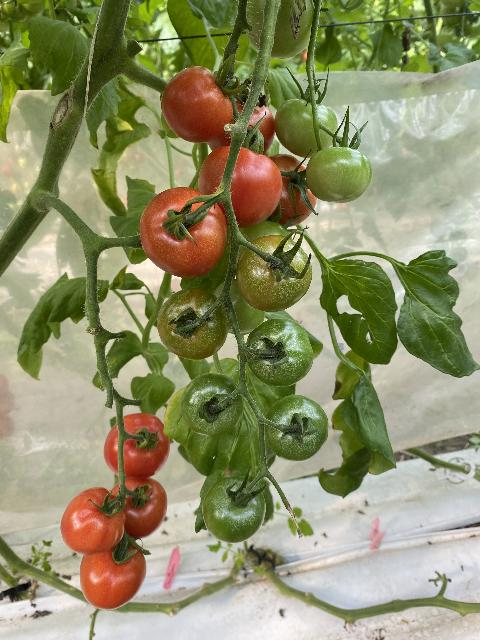l_fully_ripened: (140, 187, 228, 279), (197, 143, 283, 228), (161, 66, 233, 143), (80, 536, 147, 610), (103, 413, 170, 479), (60, 487, 125, 555), (208, 93, 275, 155), (266, 154, 317, 228), (110, 477, 168, 540)
l_green: (237, 234, 313, 312), (157, 287, 228, 359), (245, 317, 313, 387), (264, 395, 329, 462), (203, 475, 265, 544), (180, 372, 243, 437), (246, 0, 316, 58), (306, 146, 373, 203), (275, 99, 338, 157), (214, 279, 266, 335)
